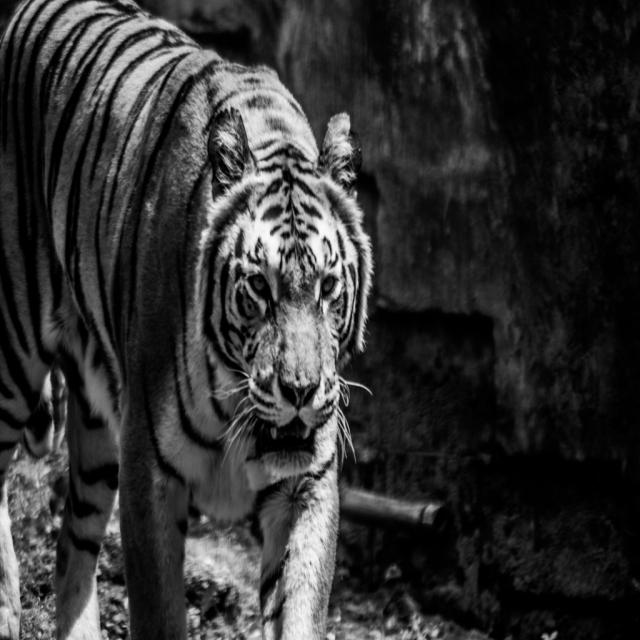Tiger: (0, 0, 373, 639)
